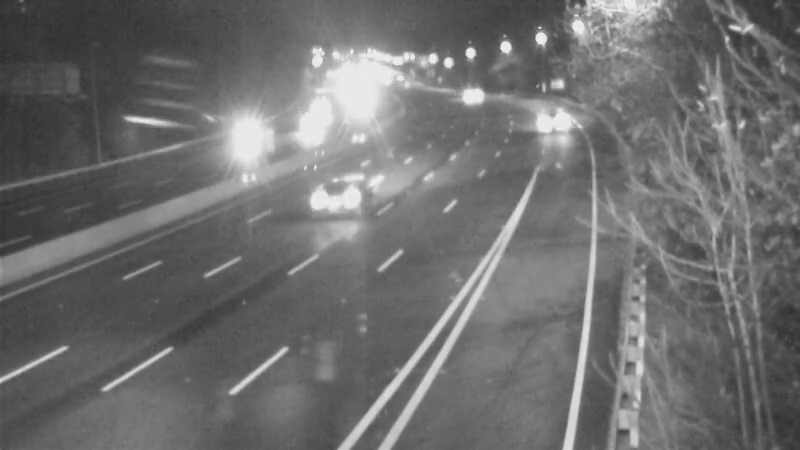vehicle: (288, 159, 368, 239), (444, 68, 494, 118), (519, 92, 569, 142), (230, 104, 280, 154), (289, 93, 339, 143)
